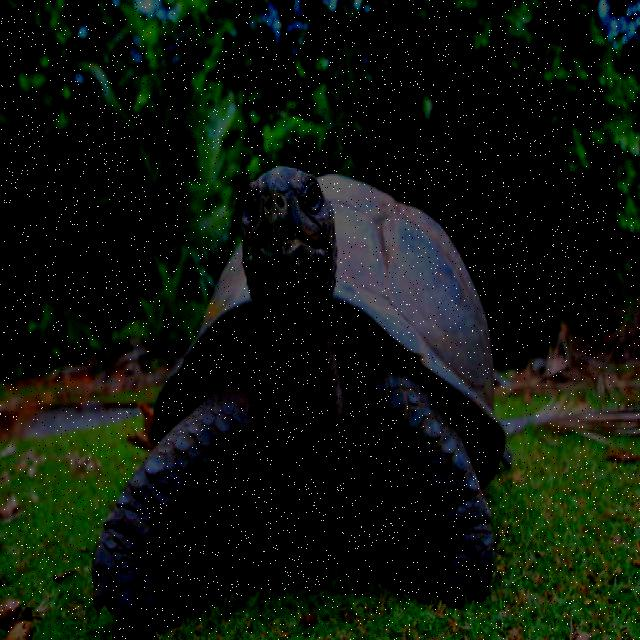tortoise: (82, 160, 500, 640)
